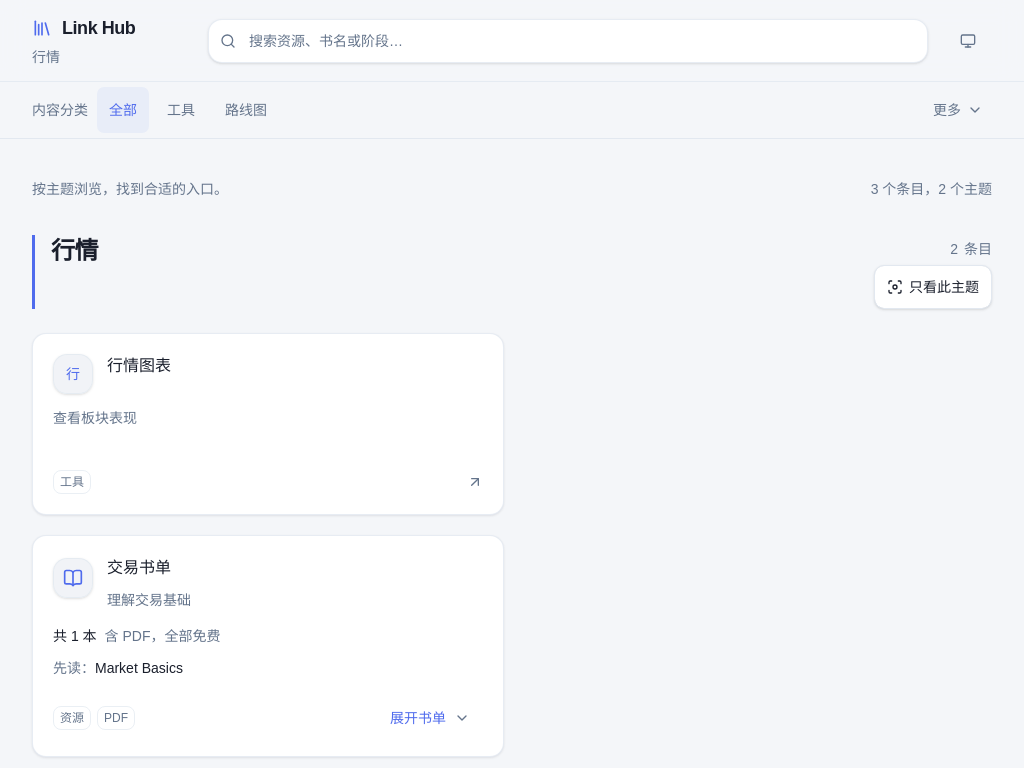
Test: 页面组装 › 过滤隐藏主题与书单后恢复时保留展开状态，无结果可清空
Expected: the heading "交易书单" is shown, x1=107 y1=556 x2=171 y2=580
Step 1. Click the button "展开书单" → (430, 718), box x1=377 y1=696 x2=483 y2=740
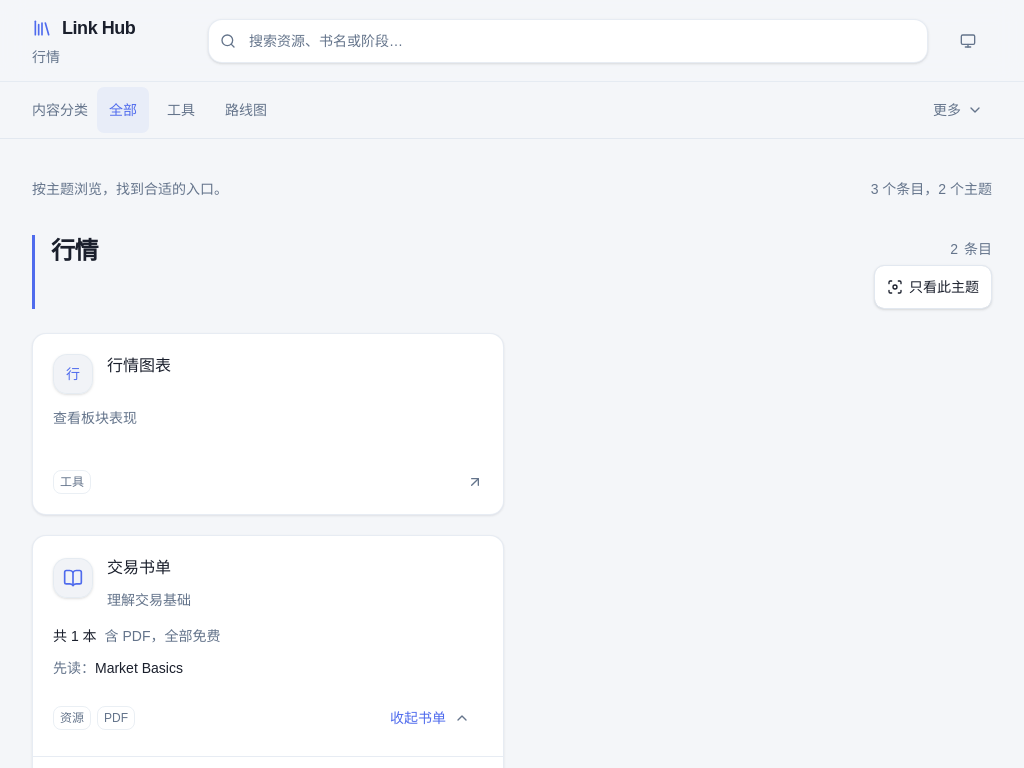
Step 2. Type "Solidity" into the search field labelled "搜索资源" → (568, 40), box x1=208 y1=18 x2=928 y2=62
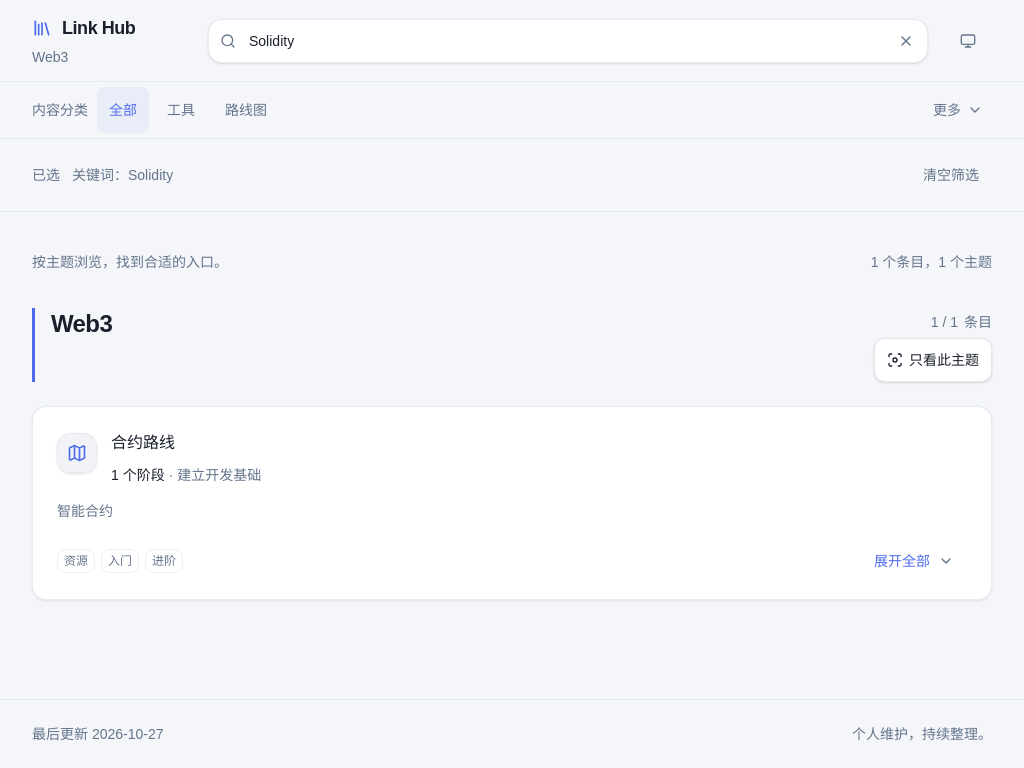
Expected: the heading "行情" is gone
Step 3. Clear the search field named "搜索资源" → (568, 40), box x1=208 y1=18 x2=928 y2=62
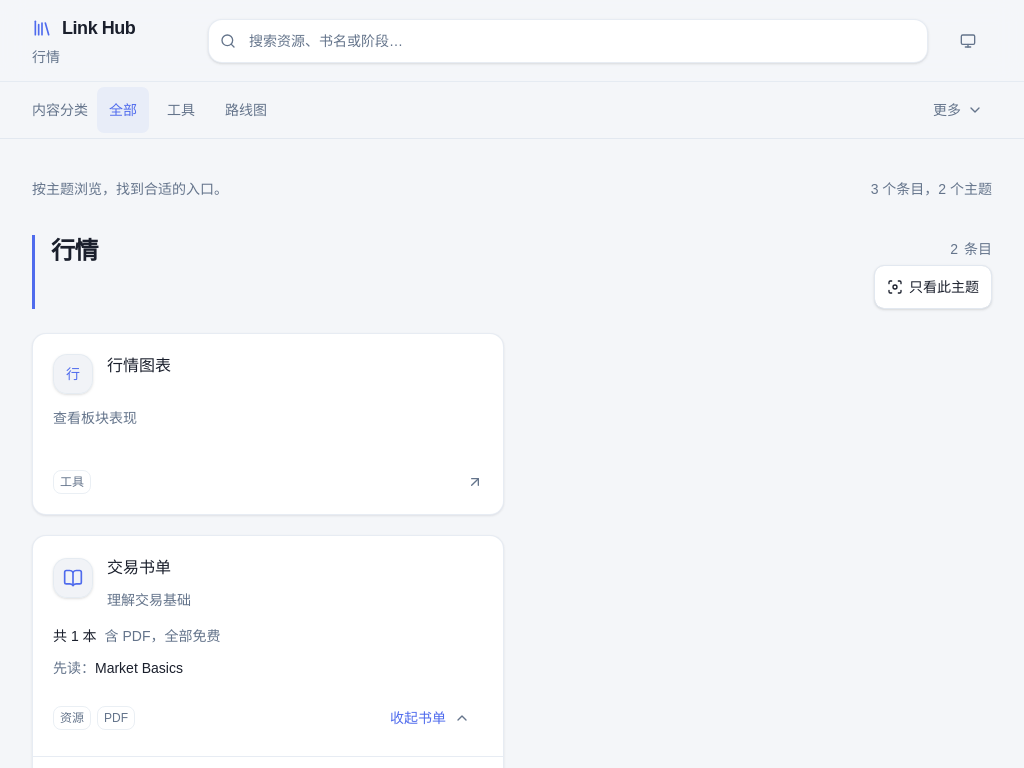
Step 4. Type "不存在的词" into the search field labelled "搜索资源" → (568, 40), box x1=208 y1=18 x2=928 y2=62
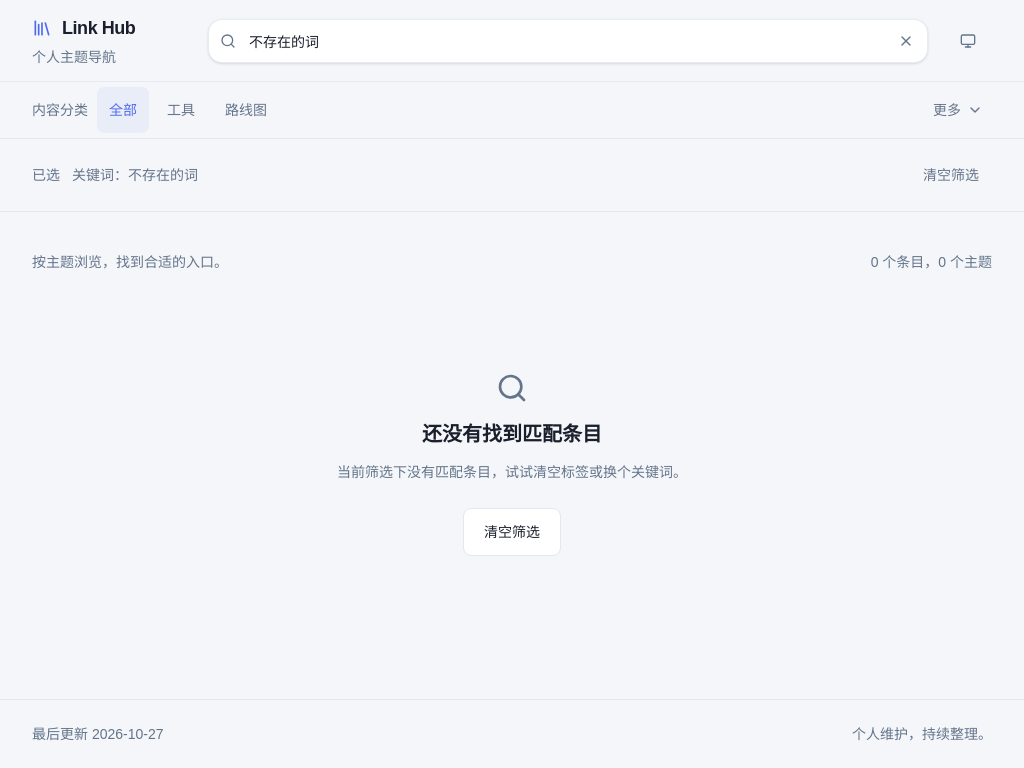
Expected: the heading "还没有找到匹配条目" is shown, x1=422 y1=423 x2=602 y2=445
Step 5. Click the button "清空筛选" below "当前筛选下没有匹配条目，试试清空标签或换个关键词。" → (512, 532), box x1=463 y1=508 x2=561 y2=556
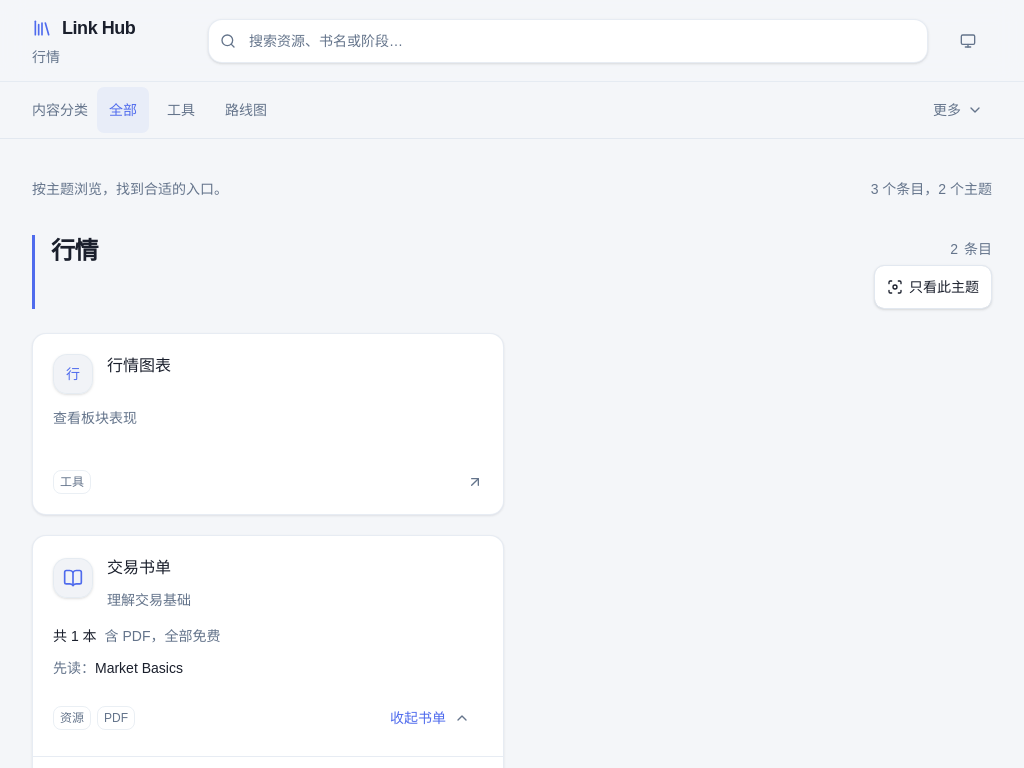
Expected: the heading "还没有找到匹配条目" is gone
Expected: the heading "行情" is shown, x1=51 y1=235 x2=98 y2=267
